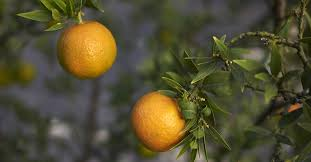orange: (55, 16, 121, 81), (130, 86, 186, 154)
